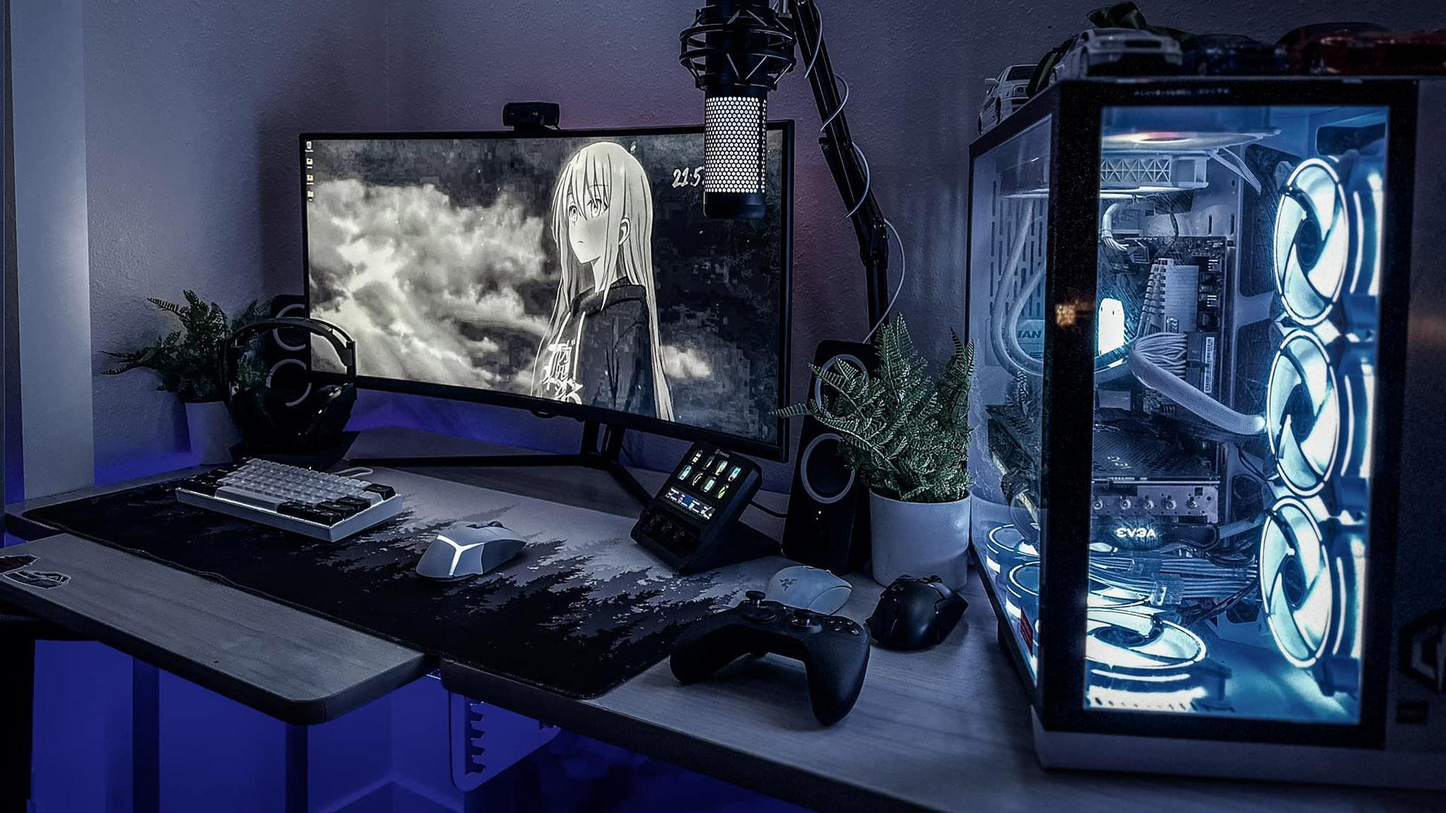keyboard: (161, 435, 414, 553)
monitor: (291, 125, 798, 465)
mouse: (847, 555, 984, 673), (404, 503, 538, 596), (754, 535, 851, 632)
pc: (940, 73, 1445, 803)
